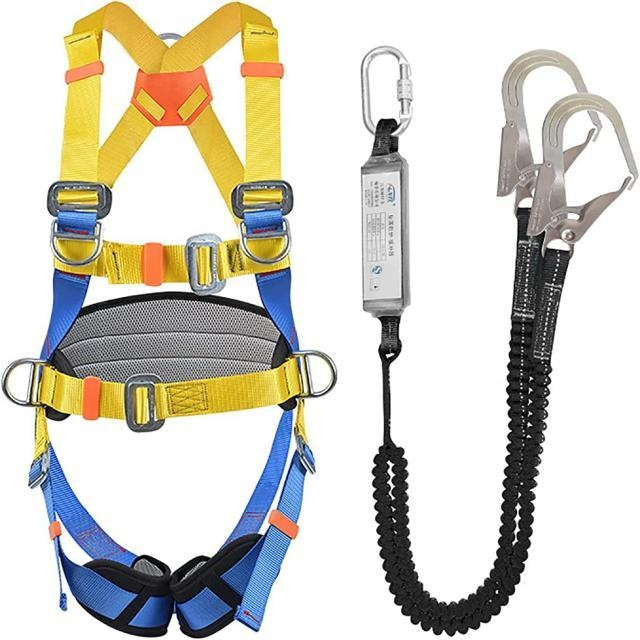Arnes_seguridad: (15, 5, 345, 640)
